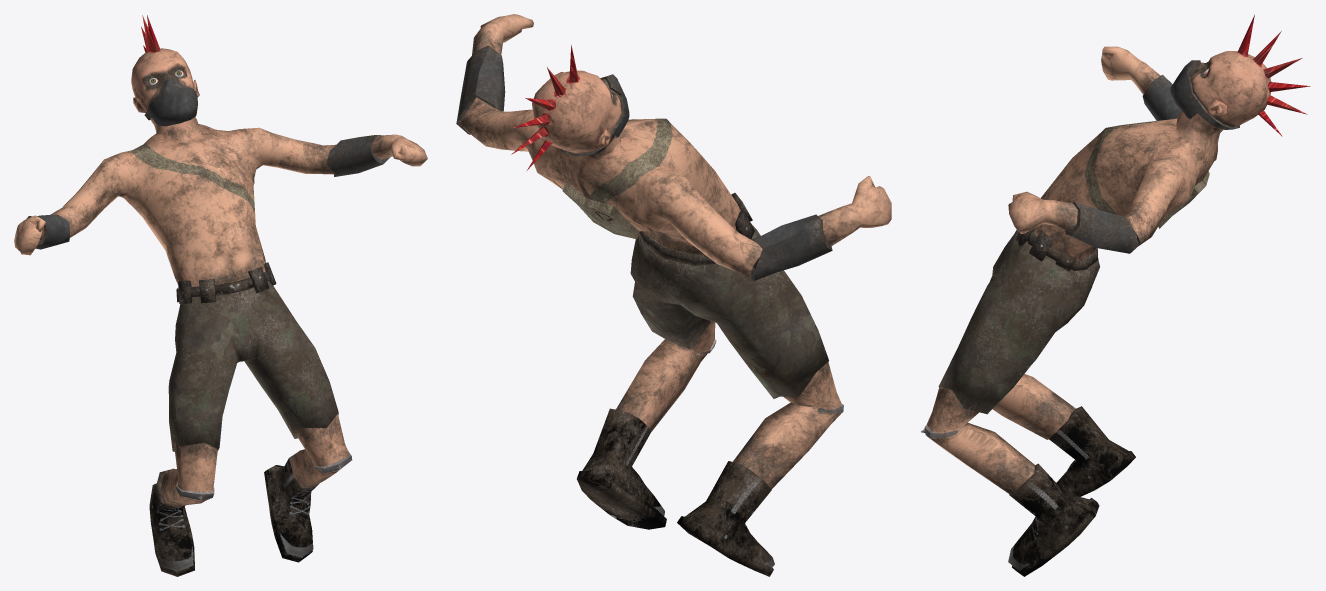
The model's file is Anim_morir_1_npc2.0018.obj.
3 views of the same model, side by side, from view 1: azimuth 30°, elevation 25°; view 2: azimuth 150°, elevation 25°; view 3: azimuth 270°, elevation 25° (orthographic). The views are drawn at different scales.
Visible parts, largest first — view 1: polySurface1; view 2: polySurface1; view 3: polySurface1.
Boxes of the visible parts, <box> form: polySurface1: <box>14,15,427,576</box>; polySurface1: <box>456,14,891,576</box>; polySurface1: <box>921,14,1310,576</box>.
Size of the model in its own units: 6.58 by 8.27 by 5.49.
